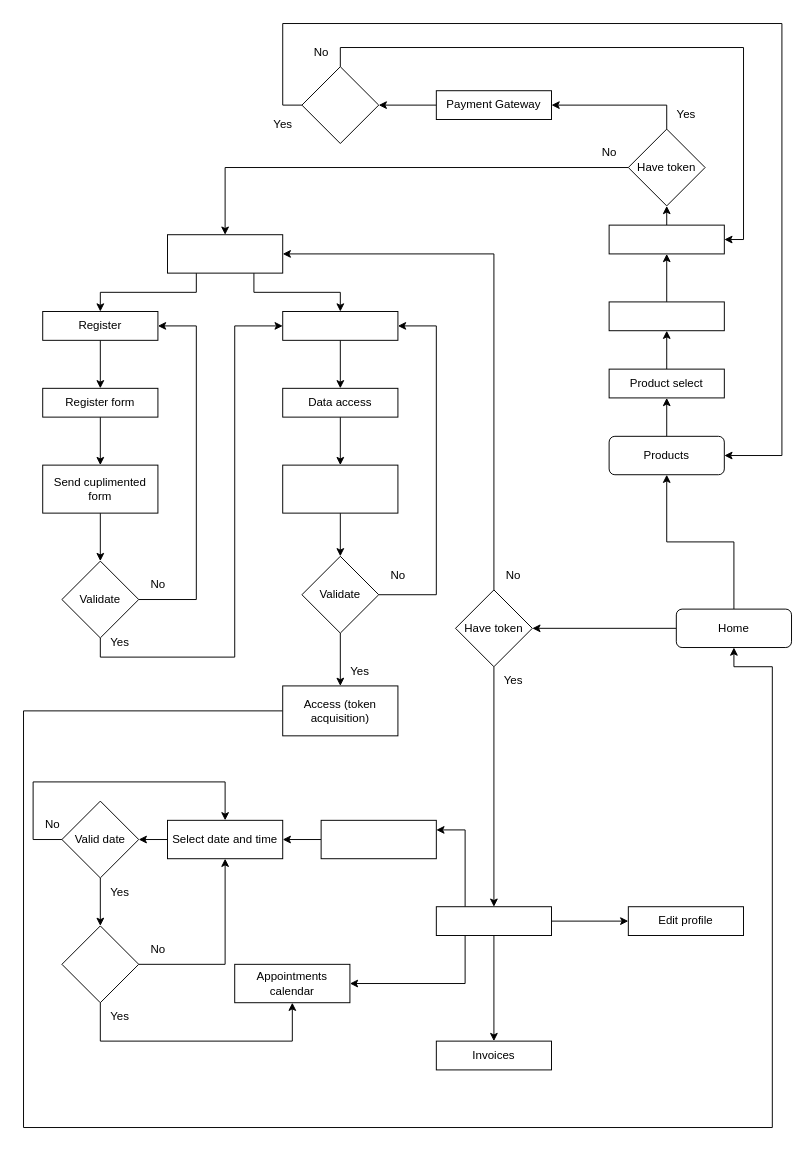
Image size: 808x1152. Some labels were removed from this diagram. The shapes that lost their labels are listed below. From the top down, each one's box as (x1, y1, x2, y2) in pixels, then its label:
(301, 66, 379, 144): Payment made
(167, 234, 283, 273): Login/Register
(608, 224, 724, 254): Chart
(282, 311, 398, 340): Login
(608, 301, 724, 331): Add to chart
(282, 464, 398, 513): Send data access
(320, 819, 436, 859): New appointment
(435, 906, 552, 936): Profile
(61, 925, 139, 1003): Check availability
